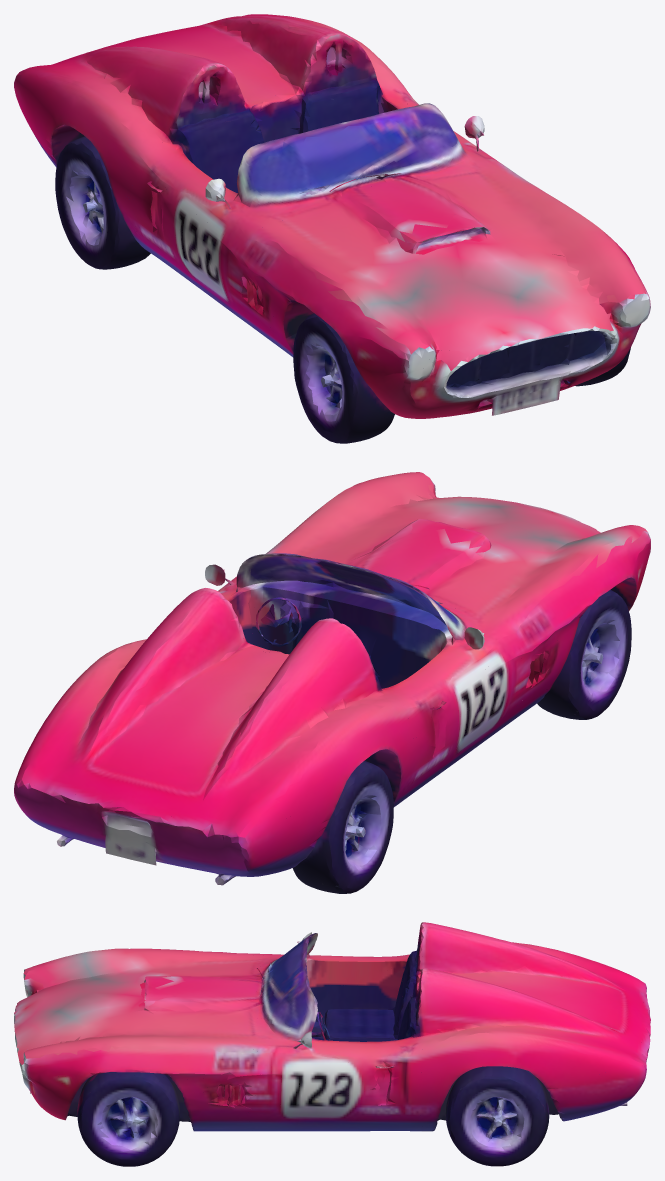
The model's file is vintagegp3.glb.
3 views of the same model, one above another, from view 1: azimuth 30°, elevation 25°; view 2: azimuth 150°, elevation 25°; view 3: azimuth 270°, elevation 25° (orthographic). The views are drawn at different scales.
Parts seen in each view (by area): view 1: panel_hood, panel_roof, panel_trunk, panel_bumper_f, panel_door_L, wheel_rear_L, wheel_front_L, susp_front_L, susp_rear_L, susp_front_R, panel_bumper_r, body; view 2: panel_trunk, panel_hood, panel_roof, panel_bumper_r, panel_door_L, wheel_rear_L, wheel_front_L, body, susp_rear_L, susp_front_L, panel_bumper_f; view 3: panel_hood, panel_trunk, panel_roof, panel_door_R, wheel_front_R, wheel_rear_R, panel_bumper_r, panel_bumper_f, panel_door_L, body, susp_front_R, susp_rear_R.
Boxes of the visible parts, x1,y1,x2,y2 form: panel_hood: (231, 165, 650, 370); panel_roof: (132, 36, 508, 247); panel_trunk: (19, 14, 407, 255); panel_bumper_f: (266, 287, 650, 418); panel_door_L: (124, 169, 261, 333); wheel_rear_L: (55, 143, 119, 267); wheel_front_L: (293, 317, 357, 441); susp_front_L: (241, 293, 463, 443); susp_rear_L: (49, 125, 157, 269); susp_front_R: (560, 323, 641, 390); panel_bumper_r: (14, 72, 104, 167); body: (192, 132, 302, 192); panel_trunk: (17, 588, 421, 836); panel_hood: (266, 472, 650, 735); panel_roof: (145, 553, 522, 720); panel_bumper_r: (14, 761, 378, 876); panel_door_L: (395, 639, 530, 806); wheel_rear_L: (330, 767, 393, 893); wheel_front_L: (569, 595, 631, 719); body: (252, 607, 443, 688); susp_rear_L: (215, 750, 434, 893); susp_front_L: (526, 579, 636, 719); panel_bumper_f: (532, 525, 650, 705); panel_hood: (14, 948, 281, 1131); panel_trunk: (409, 922, 650, 1130); panel_roof: (246, 924, 426, 1064); panel_door_R: (235, 1061, 433, 1131); wheel_front_R: (81, 1076, 177, 1166); wheel_rear_R: (449, 1077, 546, 1166); panel_bumper_r: (470, 983, 650, 1121); panel_bumper_f: (15, 988, 215, 1131); panel_door_L: (307, 962, 403, 1023); body: (311, 981, 407, 1105); susp_front_R: (23, 1074, 251, 1166); susp_rear_R: (378, 1071, 627, 1166).
Size of the model in its own units: 1.66 by 1.18 by 4.
1 material, 1 textured.
